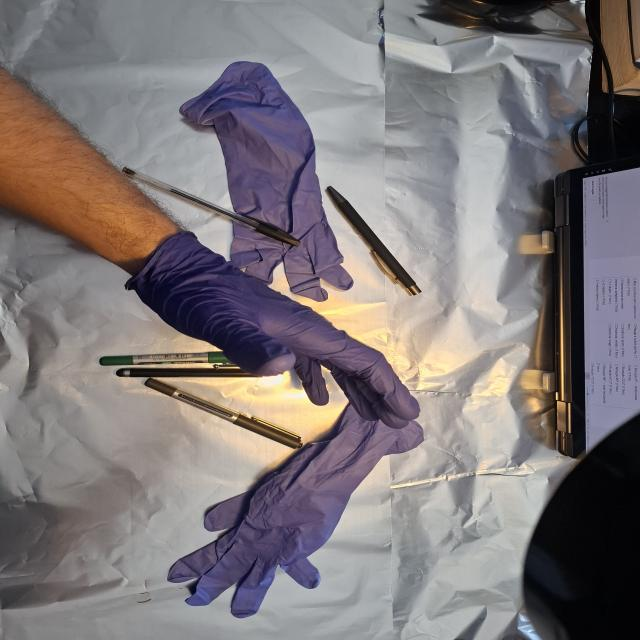glove_on: (130, 232, 423, 431)
